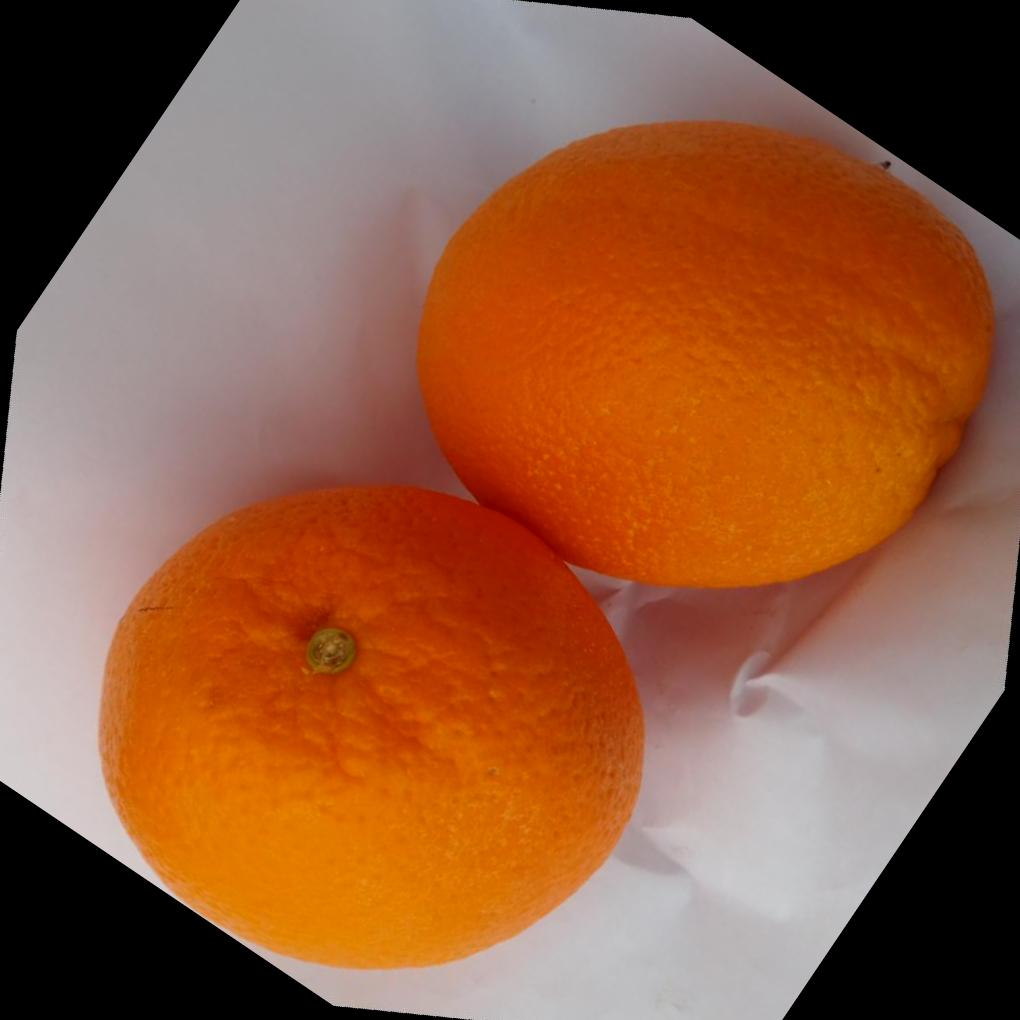FreshGuava: (98, 116, 1001, 976)
